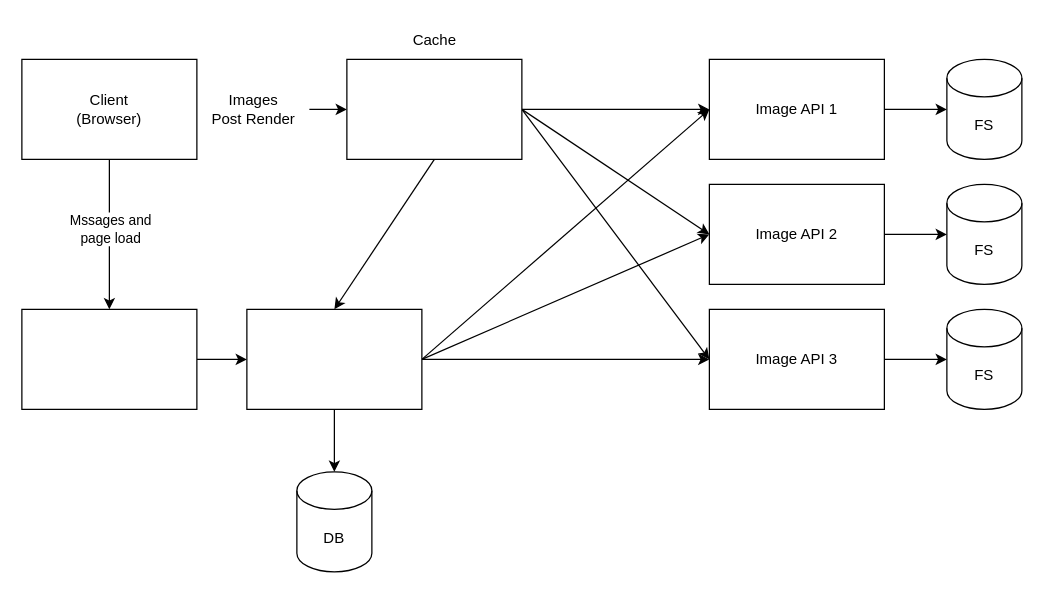
The diagram is 1044 pixels wide and 594 high, and some of its shapes have lost their labels. Here are the shapes that lost their labels. From the top down, the centre of each, then its label:
the point at 434,108: NGINX
the point at 109,358: Client (Server)
the point at 334,358: Message API
